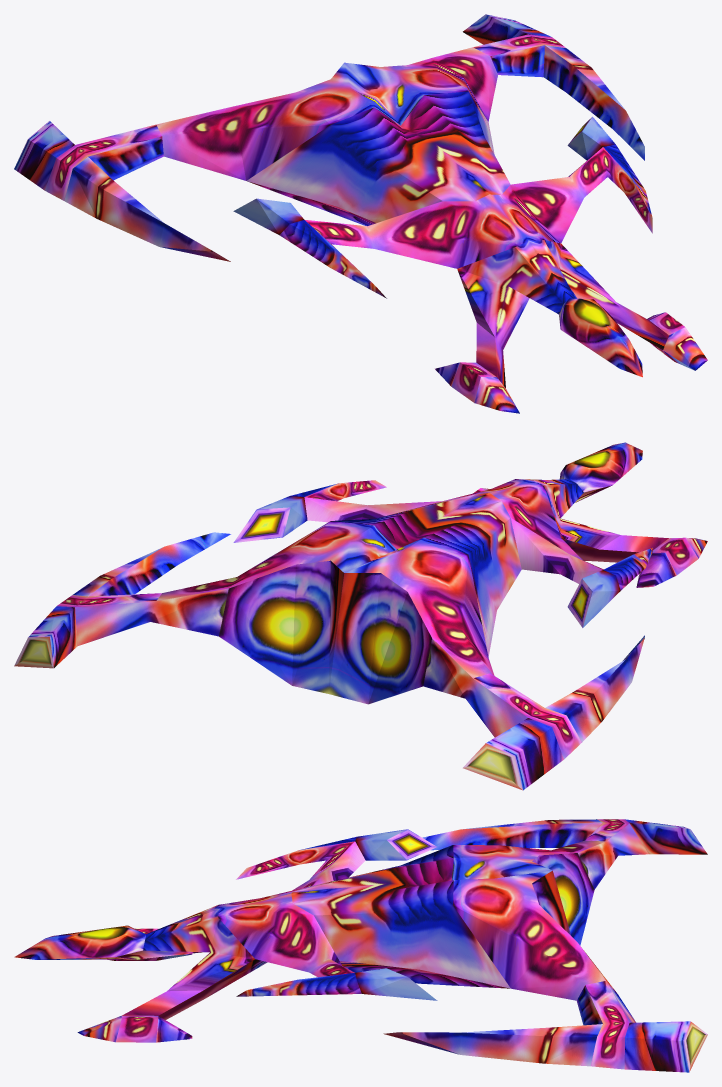
File: boss-06.fbx
The picture shows the model from 3 angles, top to bottom: view 1: azimuth 30°, elevation 25°; view 2: azimuth 150°, elevation 25°; view 3: azimuth 270°, elevation 25°; orthographic projection. The views are drawn at different scales.
Visible parts, largest first — view 1: boss-06; view 2: boss-06; view 3: boss-06.
Part boxes in pixels (<box>): boss-06: <box>14,14,707,413</box>; boss-06: <box>14,442,707,790</box>; boss-06: <box>14,819,707,1072</box>.
Bounding box in the file's own units: 159 × 42.84 × 203.
